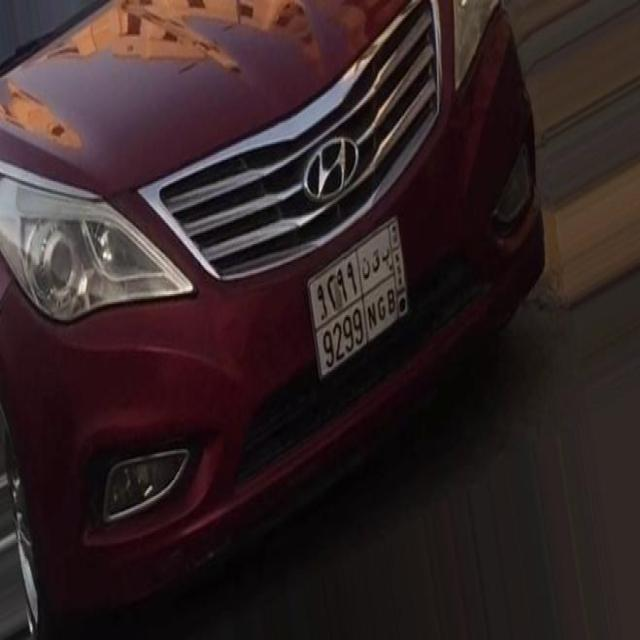Car-plate: (296, 199, 423, 407)
